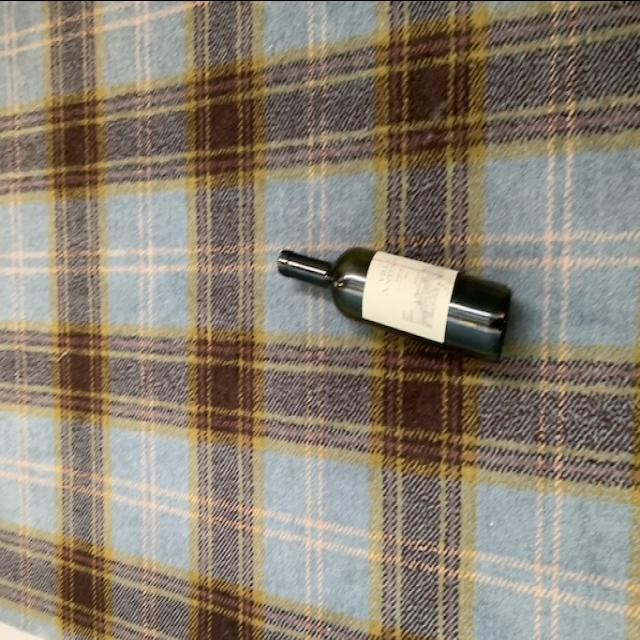litter: (274, 234, 514, 362)
